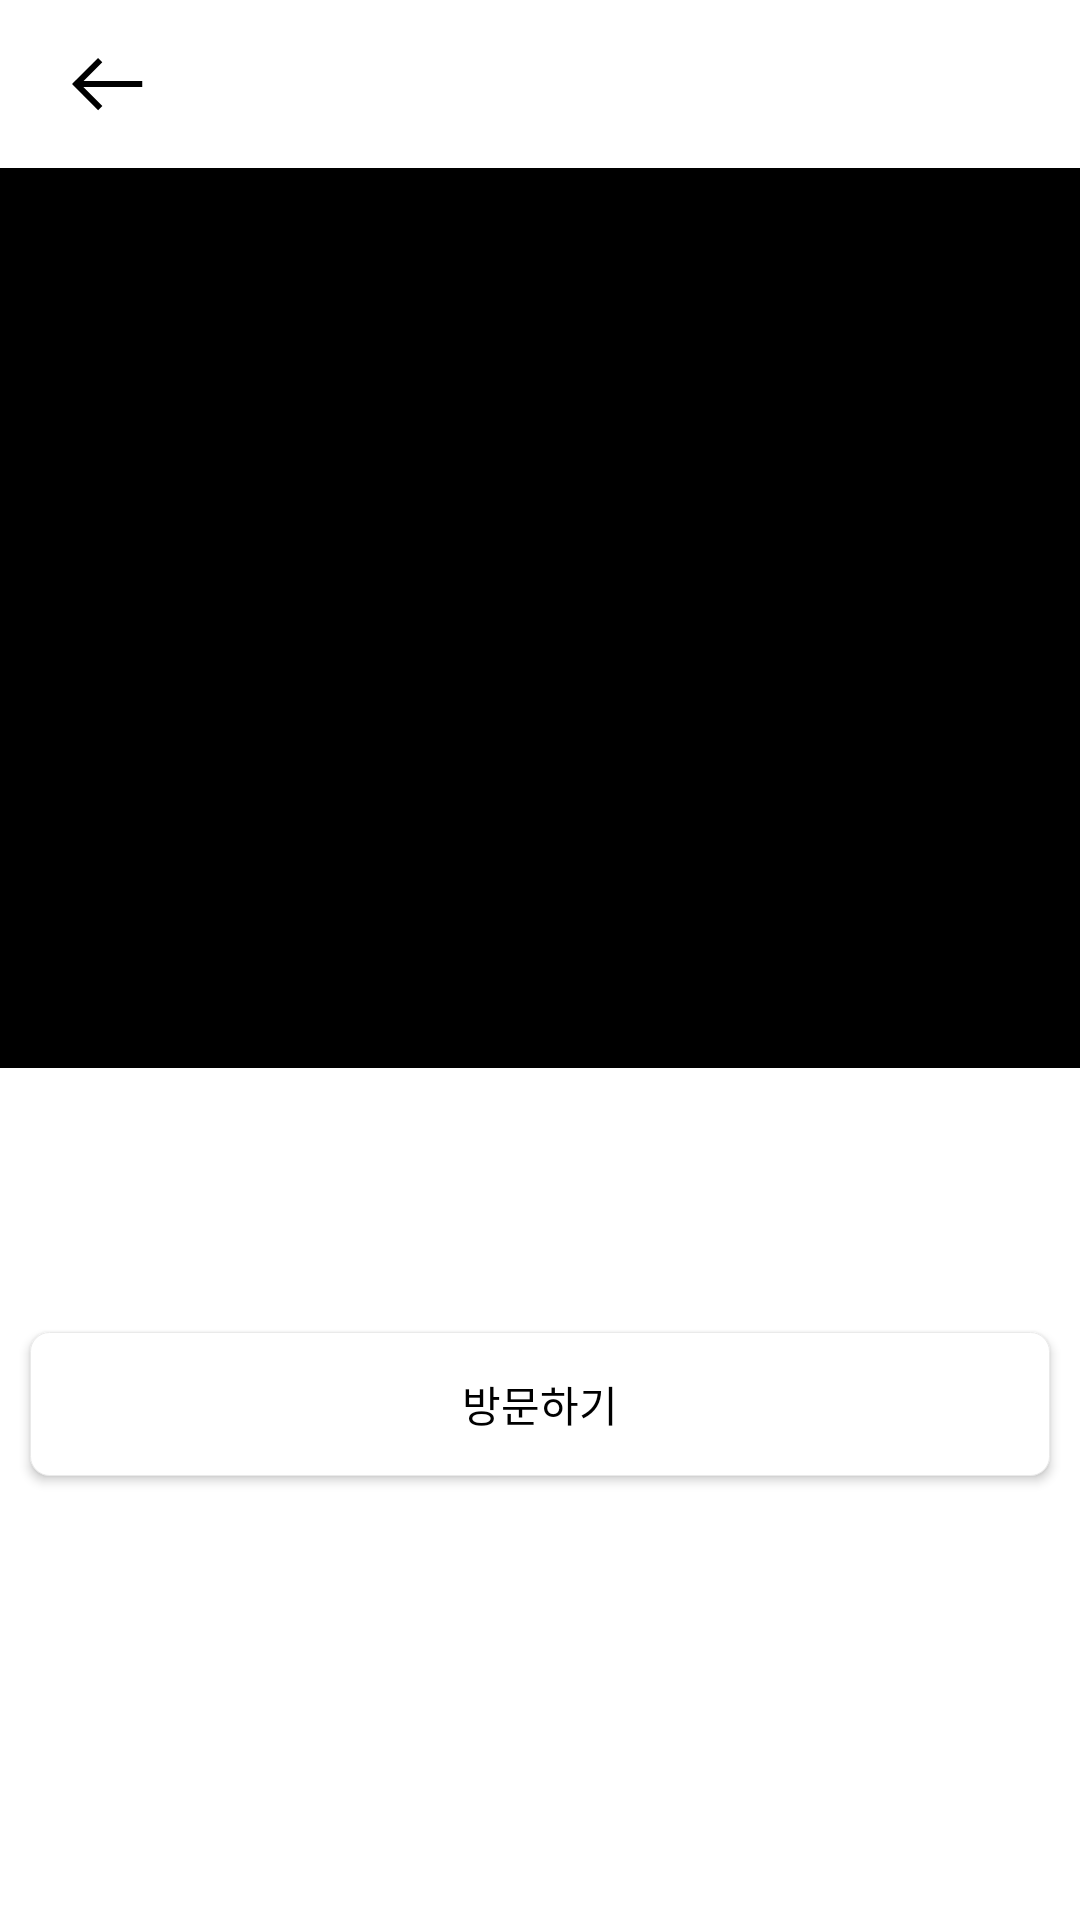

Where icons sit on this 1080px x 1920px app screen, as bbox=[x1, y1, x2, y2]:
back: bbox=[72, 58, 143, 110]
